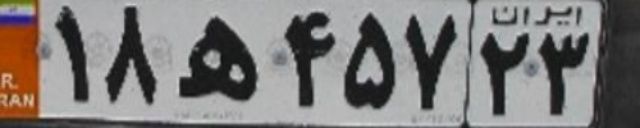1: (50, 4, 91, 102)
2: (478, 30, 526, 116)
3: (536, 31, 589, 116)
4: (282, 11, 339, 107)
5: (344, 11, 395, 106)
7: (403, 12, 454, 111)
8: (104, 6, 158, 103)
he: (173, 14, 262, 101)
